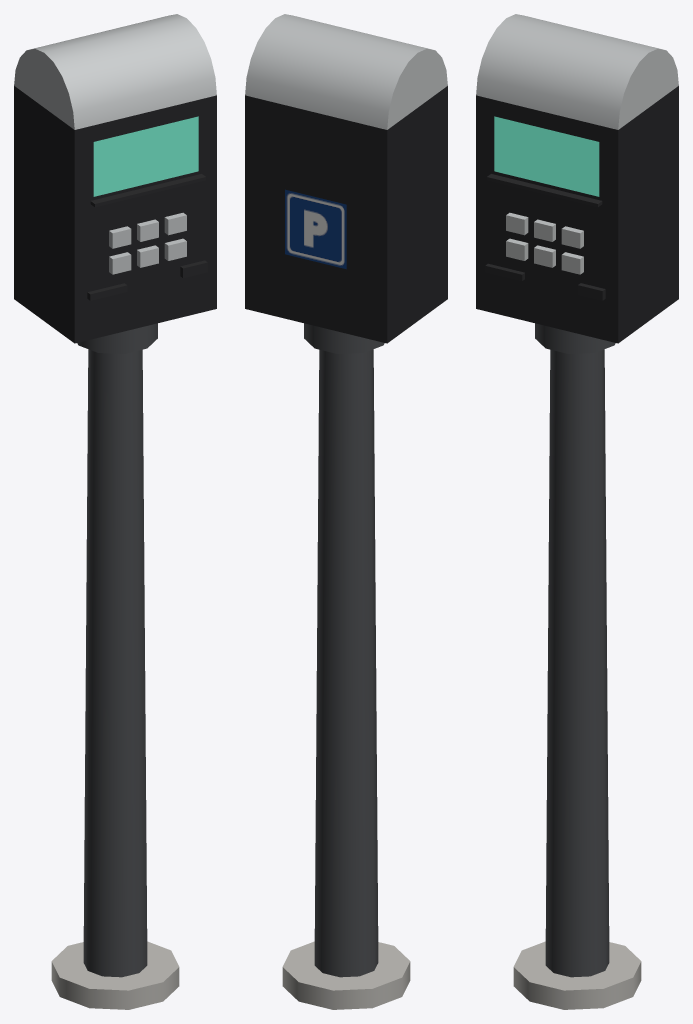
File: parking_meter.glb
3 renders of one model, left to right at view 1: azimuth 30°, elevation 25°; view 2: azimuth 150°, elevation 25°; view 3: azimuth 330°, elevation 25°, orthographic.
Visible parts, largest first — view 1: parking_meter_body; view 2: parking_meter_body; view 3: parking_meter_body.
Boxes of the visible parts, <box> form: parking_meter_body: <box>14,14,216,1009</box>; parking_meter_body: <box>245,14,447,1009</box>; parking_meter_body: <box>476,14,678,1009</box>.
Bounding box in the file's own units: 0.0115 × 0.0733 × 0.0092.
2 materials, 2 textured.
